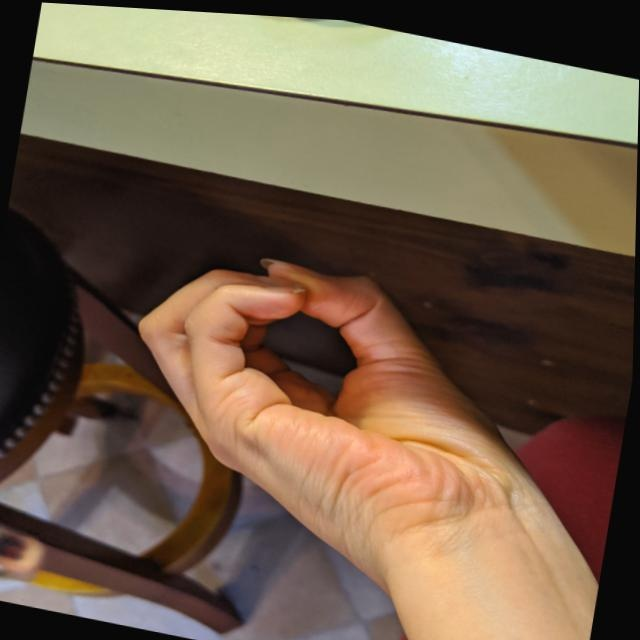O: (102, 224, 568, 594)
